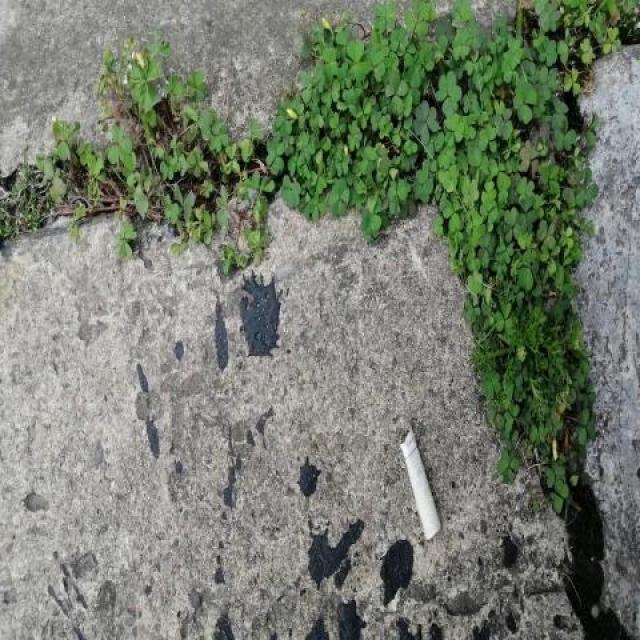non-organic waste: (393, 418, 446, 546)
